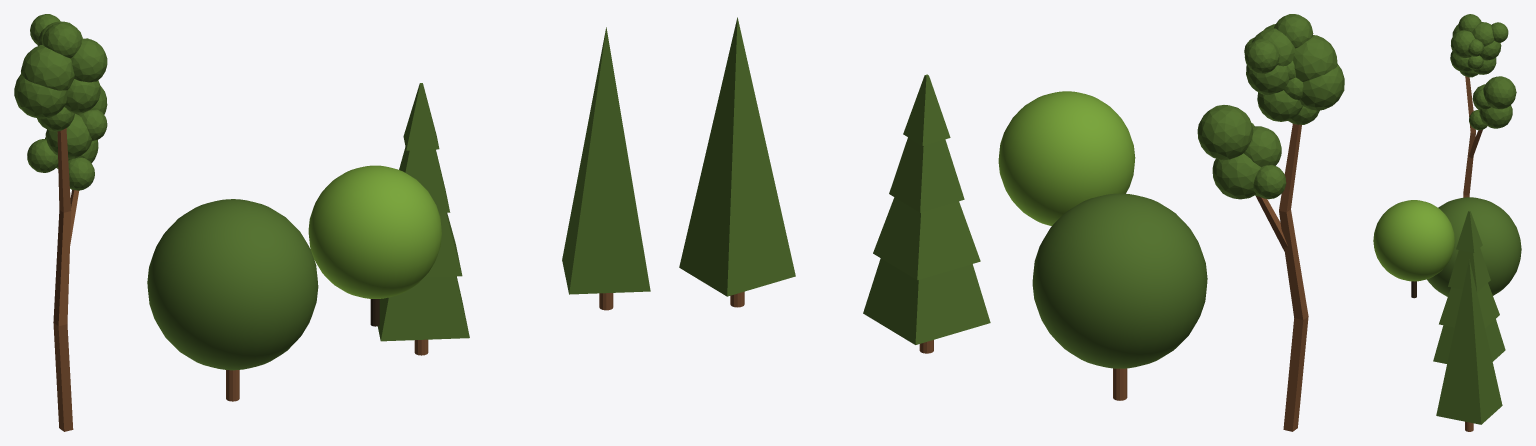
File: PolyT.obj
3 views of the same model, side by side, from view 1: azimuth 30°, elevation 25°; view 2: azimuth 150°, elevation 25°; view 3: azimuth 270°, elevation 25° (orthographic). The views are drawn at different scales.
Parts seen in each view (by area): view 1: Sphere, Sphere.001, Cone_Cone.001, Cone.001_Cone.002, Cube, Icosphere.021_Icosphere.023, Icosphere_Icosphere.002, Icosphere.012_Icosphere.014, Icosphere.011_Icosphere.013, Icosphere.019_Icosphere.021, Icosphere.009_Icosphere.011, Icosphere.006_Icosphere.008 (+1 smaller); view 2: Sphere, Cone.001_Cone.002, Cone_Cone.001, Sphere.001, Cube, Icosphere.020_Icosphere.022, Icosphere.001_Icosphere.003, Icosphere.021_Icosphere.023, Icosphere_Icosphere.002, Icosphere.011_Icosphere.013, Icosphere.004_Icosphere.006, Icosphere.015_Icosphere.017 (+4 smaller); view 3: Cone_Cone.001, Sphere.001, Sphere, Cone.001_Cone.002, Icosphere.020_Icosphere.022, Cube, Icosphere.001_Icosphere.003, Icosphere.012_Icosphere.014, Icosphere.017_Icosphere.019, Icosphere.019_Icosphere.021, Icosphere.010_Icosphere.012, Icosphere.015_Icosphere.017 (+6 smaller).
Part boxes in pixels (x1,y1,x2,y2): Sphere: (147, 199, 318, 370); Sphere.001: (308, 165, 441, 298); Cone_Cone.001: (562, 27, 650, 294); Cone.001_Cone.002: (377, 83, 469, 341); Cube: (53, 128, 78, 431); Icosphere.021_Icosphere.023: (21, 45, 74, 90); Icosphere_Icosphere.002: (14, 74, 67, 118); Icosphere.012_Icosphere.014: (70, 38, 107, 82); Icosphere.011_Icosphere.013: (45, 114, 91, 158); Icosphere.019_Icosphere.021: (42, 22, 81, 58); Icosphere.009_Icosphere.011: (64, 79, 100, 113); Icosphere.006_Icosphere.008: (27, 139, 58, 172); Sphere: (1032, 193, 1207, 368); Cone.001_Cone.002: (863, 74, 990, 344); Cone_Cone.001: (679, 17, 795, 296); Sphere.001: (998, 91, 1135, 225); Cube: (1256, 124, 1308, 431); Icosphere.020_Icosphere.022: (1197, 105, 1253, 160); Icosphere.001_Icosphere.003: (1212, 153, 1260, 199); Icosphere.021_Icosphere.023: (1293, 35, 1337, 81); Icosphere_Icosphere.002: (1300, 64, 1344, 110); Icosphere.011_Icosphere.013: (1244, 126, 1281, 167); Icosphere.004_Icosphere.006: (1257, 90, 1302, 121); Icosphere.015_Icosphere.017: (1244, 39, 1279, 73); Cone_Cone.001: (1436, 259, 1502, 424); Sphere.001: (1373, 200, 1454, 281); Sphere: (1427, 197, 1521, 296); Cone.001_Cone.002: (1433, 210, 1505, 363); Icosphere.020_Icosphere.022: (1483, 76, 1516, 109); Cube: (1463, 76, 1482, 197); Icosphere.001_Icosphere.003: (1479, 105, 1512, 128); Icosphere.012_Icosphere.014: (1451, 30, 1474, 57); Icosphere.017_Icosphere.019: (1472, 22, 1494, 46); Icosphere.019_Icosphere.021: (1458, 14, 1481, 32); Icosphere.010_Icosphere.012: (1480, 41, 1501, 60); Icosphere.015_Icosphere.017: (1491, 22, 1508, 42).
Size of the model in its own units: 5.34 by 3.33 by 1.77.
